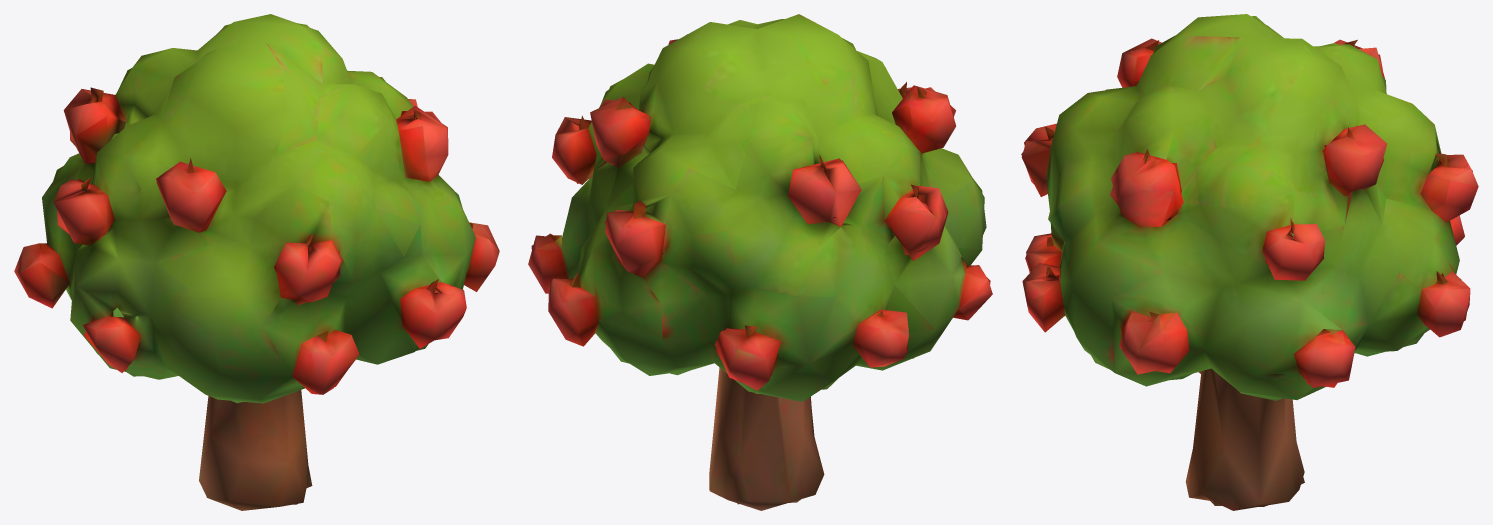
Rendered from lg-apple-tree.glb.
The picture shows the model from 3 angles, left to right: view 1: azimuth 30°, elevation 25°; view 2: azimuth 150°, elevation 25°; view 3: azimuth 270°, elevation 25°; orthographic projection.
Visible parts, largest first — view 1: geometry_0; view 2: geometry_0; view 3: geometry_0.
Boxes of the visible parts, box(x1,y1,x2,y2) form: geometry_0: box(14, 14, 499, 510); geometry_0: box(528, 14, 992, 510); geometry_0: box(1021, 14, 1478, 510).
Bounding box in the file's own units: 0.8864 × 1 × 0.8972.
1 material, 1 textured.
